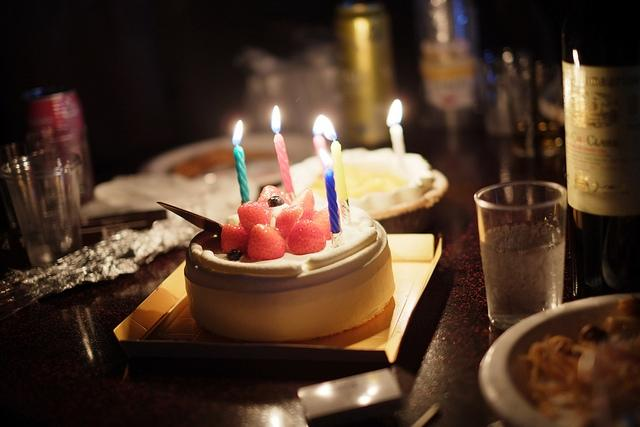strawberry: (248, 224, 286, 261), (288, 219, 327, 255), (237, 200, 273, 237), (275, 206, 304, 245), (220, 223, 249, 254), (289, 188, 315, 222), (312, 207, 331, 240), (257, 186, 290, 204)
